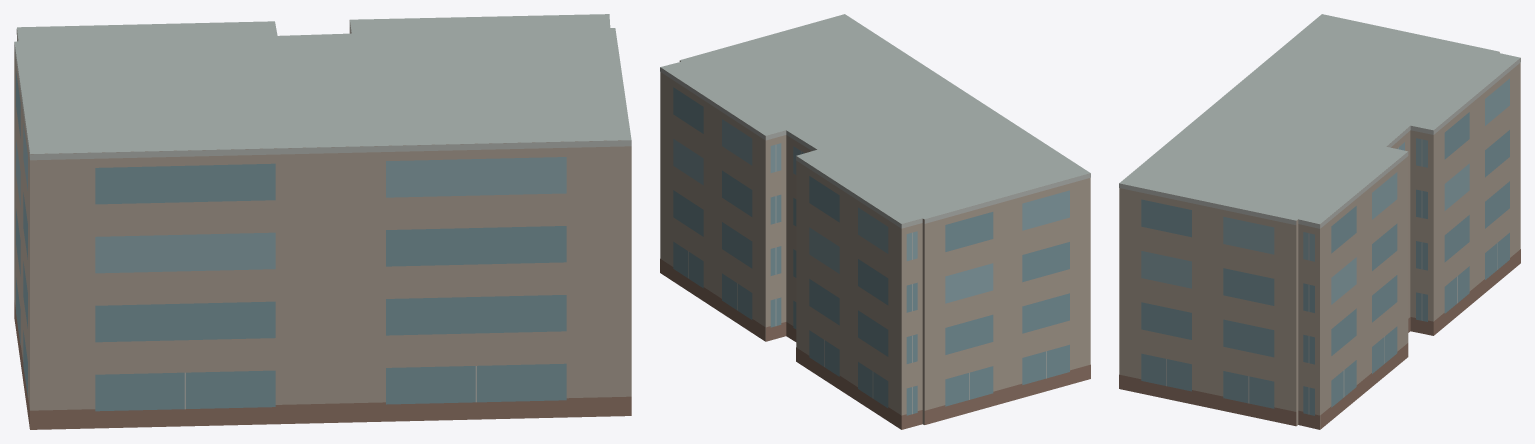
Rendered from survey-upis-32539639.glb.
3 views of the same model, side by side, from view 1: azimuth 30°, elevation 25°; view 2: azimuth 150°, elevation 25°; view 3: azimuth 270°, elevation 25° (orthographic). The views are drawn at different scales.
Visible parts, largest first — view 1: survey-upis-32539639.tmp; view 2: survey-upis-32539639.tmp; view 3: survey-upis-32539639.tmp.
Boxes of the visible parts, x1=… form: survey-upis-32539639.tmp: x1=14, y1=14, x2=631, y2=429; survey-upis-32539639.tmp: x1=660, y1=14, x2=1090, y2=429; survey-upis-32539639.tmp: x1=1119, y1=14, x2=1520, y2=429.
Size of the model in its own units: 23.88 by 10.88 by 19.28.
